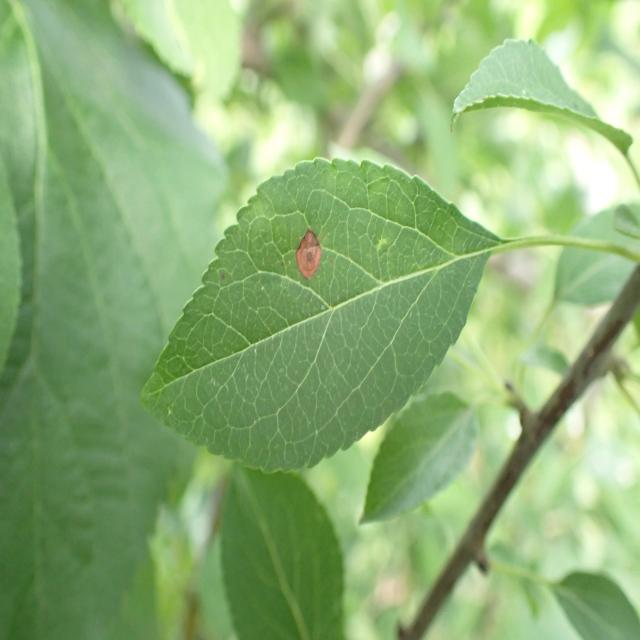Black Rot: (279, 207, 331, 291)
